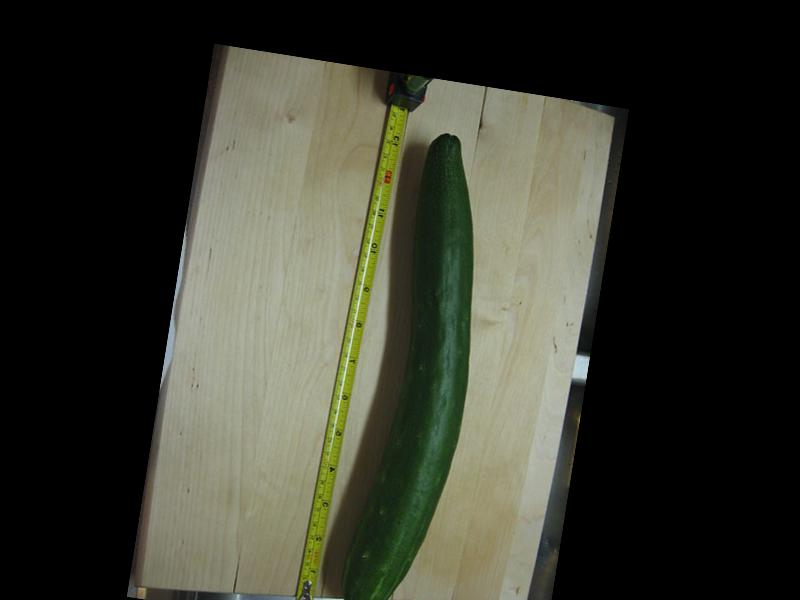Cucumber: (336, 127, 505, 600)
